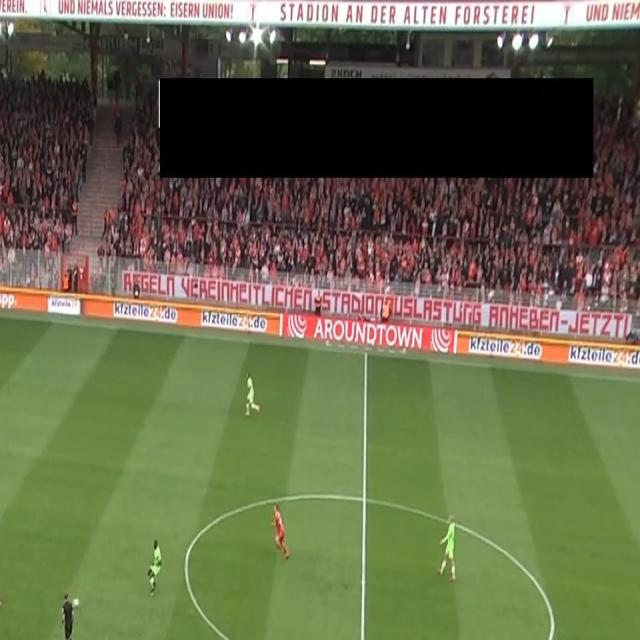ball: (72, 595, 80, 609)
